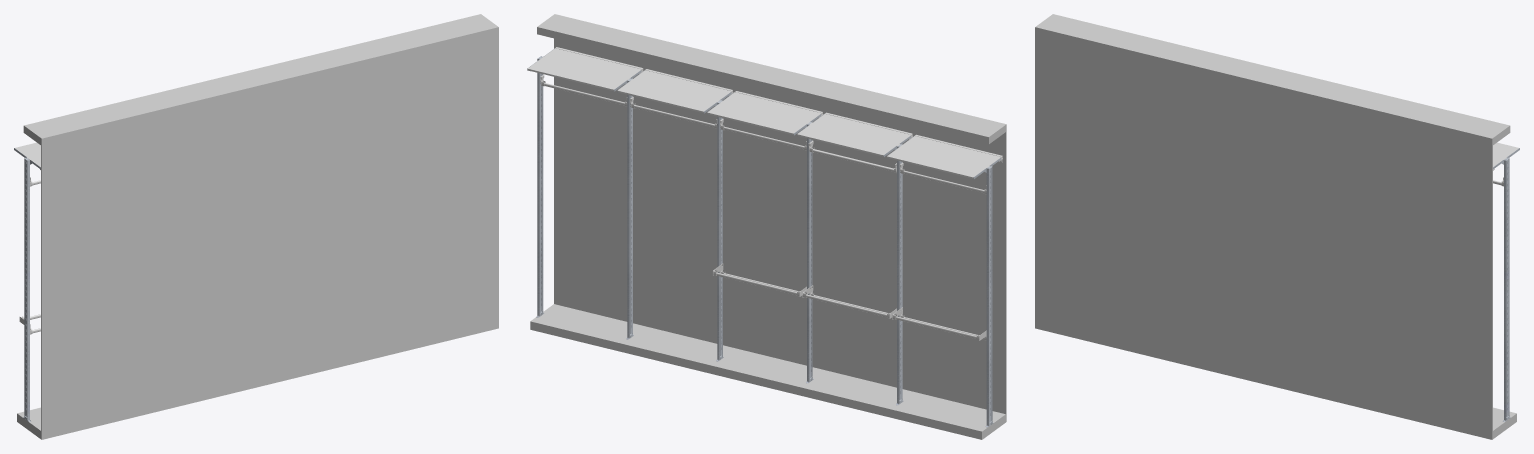
3 renders of one model, left to right at view 1: azimuth 30°, elevation 25°; view 2: azimuth 150°, elevation 25°; view 3: azimuth 330°, elevation 25°, orthographic.
Parts seen in each view (by area): view 1: Geom3D_, Geom3D_组件#2; view 2: Geom3D_, Geom3D_组件#16 (×5), Geom3D_组件#2 (×6), Geom3D_组件#11_双衣杆 copy 001 (×3); view 3: Geom3D_, Geom3D_组件#2.
Boxes of the visible parts, x1,y1,x2,y2 form: Geom3D_: [17, 14, 498, 439]; Geom3D_组件#2: [23, 157, 30, 421]; Geom3D_: [530, 14, 1006, 439]; Geom3D_组件#16 (×5): [527, 47, 1002, 178]; Geom3D_组件#2 (×6): [536, 56, 993, 427]; Geom3D_组件#11_双衣杆 copy 001 (×3): [712, 263, 986, 340]; Geom3D_: [1035, 14, 1516, 439]; Geom3D_组件#2: [1503, 157, 1510, 421].
Bounding box in the file's own units: 4.53 × 2.85 × 0.5216.
2 materials, 1 textured.
